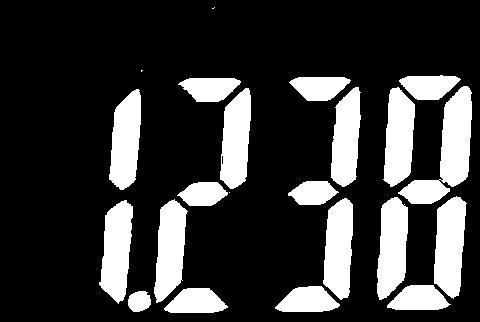1: (99, 87, 142, 305)
2: (155, 73, 257, 315)
3: (273, 72, 365, 314)
8: (376, 73, 473, 311)
dot: (127, 288, 154, 316)
